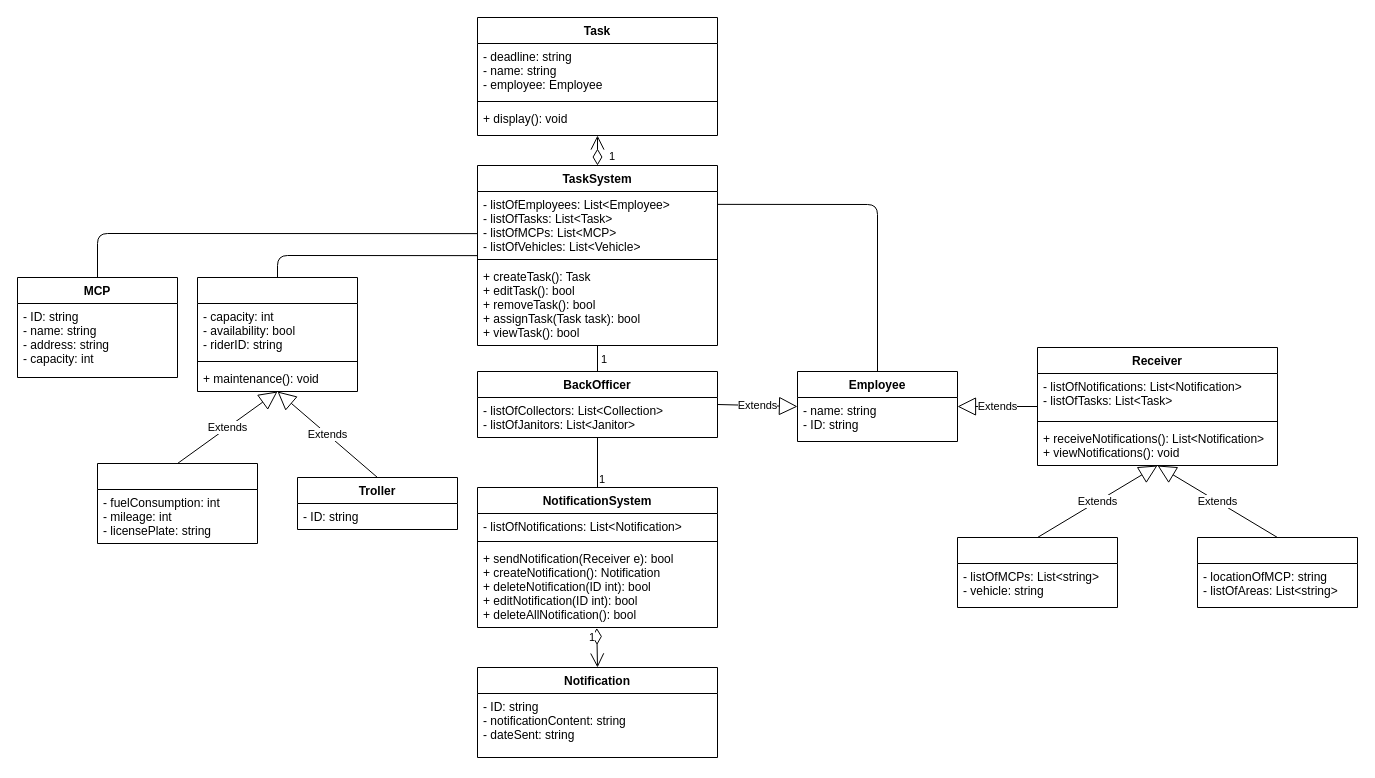
The diagram is 1375 pixels wide and 778 high, and some of its shapes have lost their labels. The shapes that lost their labels are listed below. From the top down, each one's box as (x1, y1, x2, y2) in pixels, then its label:
(196, 276, 358, 392): Vehicle
(96, 462, 258, 544): Truck
(956, 536, 1118, 608): Collector
(1196, 536, 1358, 608): Janitor
